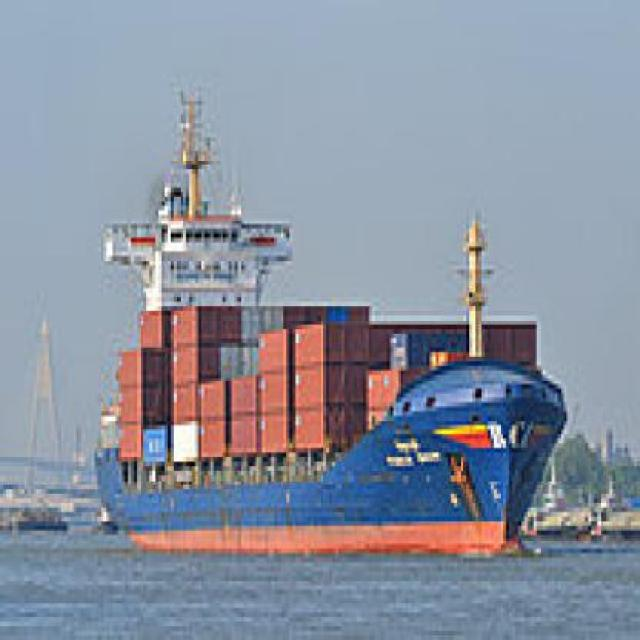container: (86, 70, 571, 554)
